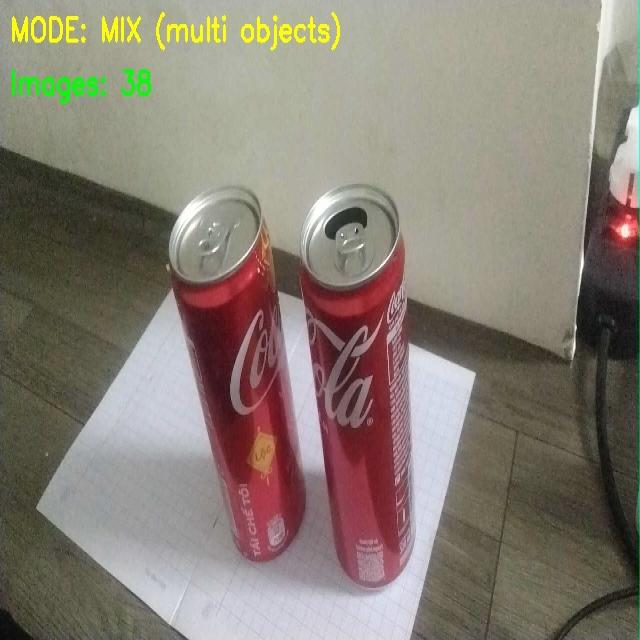Coca: (148, 171, 314, 569)
Coca_open: (296, 168, 473, 605)
